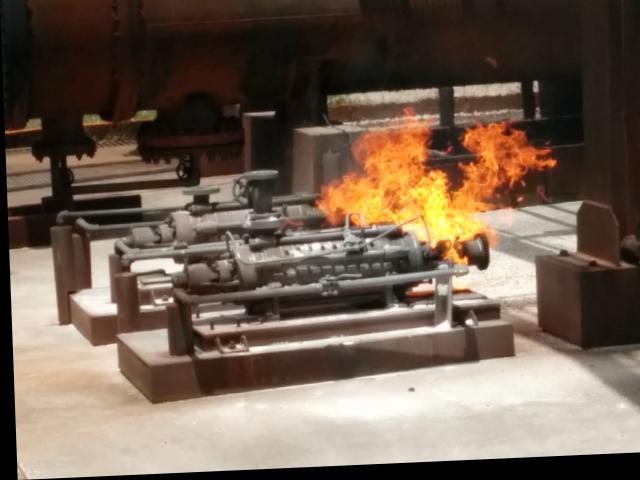fire: (321, 111, 546, 283)
